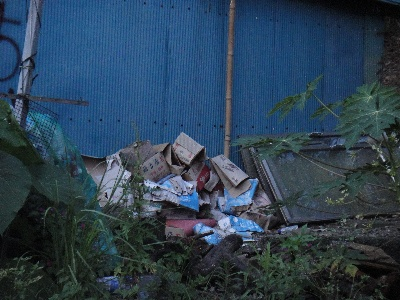box: (171, 132, 208, 182)
